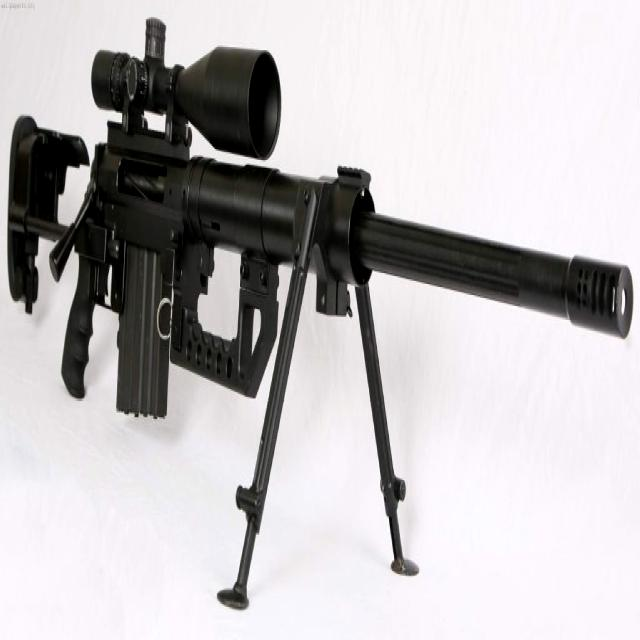rifle: (6, 21, 635, 467)
